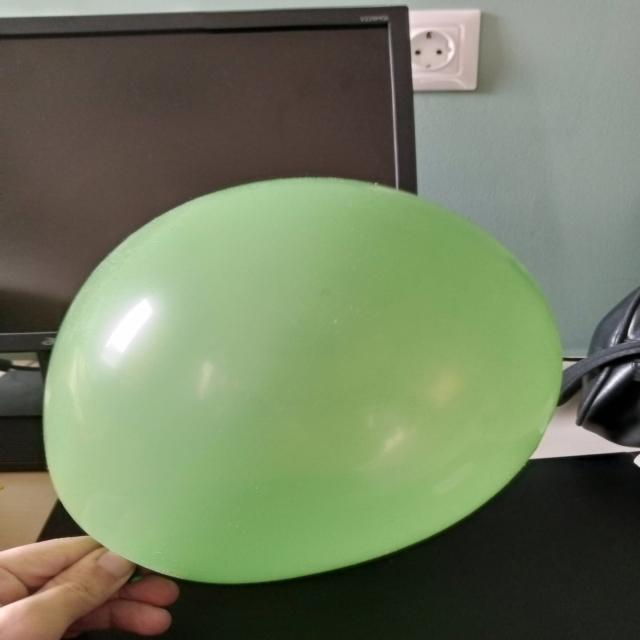balloon: (44, 178, 562, 584)
